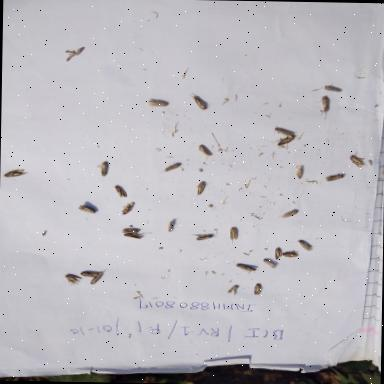pbw: (347, 150, 367, 170), (190, 94, 210, 113), (157, 160, 184, 174), (315, 96, 332, 118), (88, 270, 109, 287), (3, 168, 28, 182), (278, 248, 302, 262), (75, 268, 103, 280), (234, 264, 260, 276), (96, 160, 113, 178), (322, 172, 346, 184), (272, 136, 296, 148), (272, 126, 296, 138), (145, 99, 171, 110), (196, 144, 213, 160), (112, 183, 128, 200), (191, 233, 219, 242), (277, 208, 299, 219), (78, 204, 98, 216), (251, 282, 266, 298), (297, 239, 315, 252), (192, 180, 206, 196), (292, 164, 306, 180), (120, 233, 148, 241), (119, 227, 143, 236), (324, 84, 345, 94), (121, 202, 136, 216), (228, 226, 239, 245), (164, 220, 178, 234), (262, 258, 278, 270), (226, 283, 240, 296), (273, 246, 284, 262)
